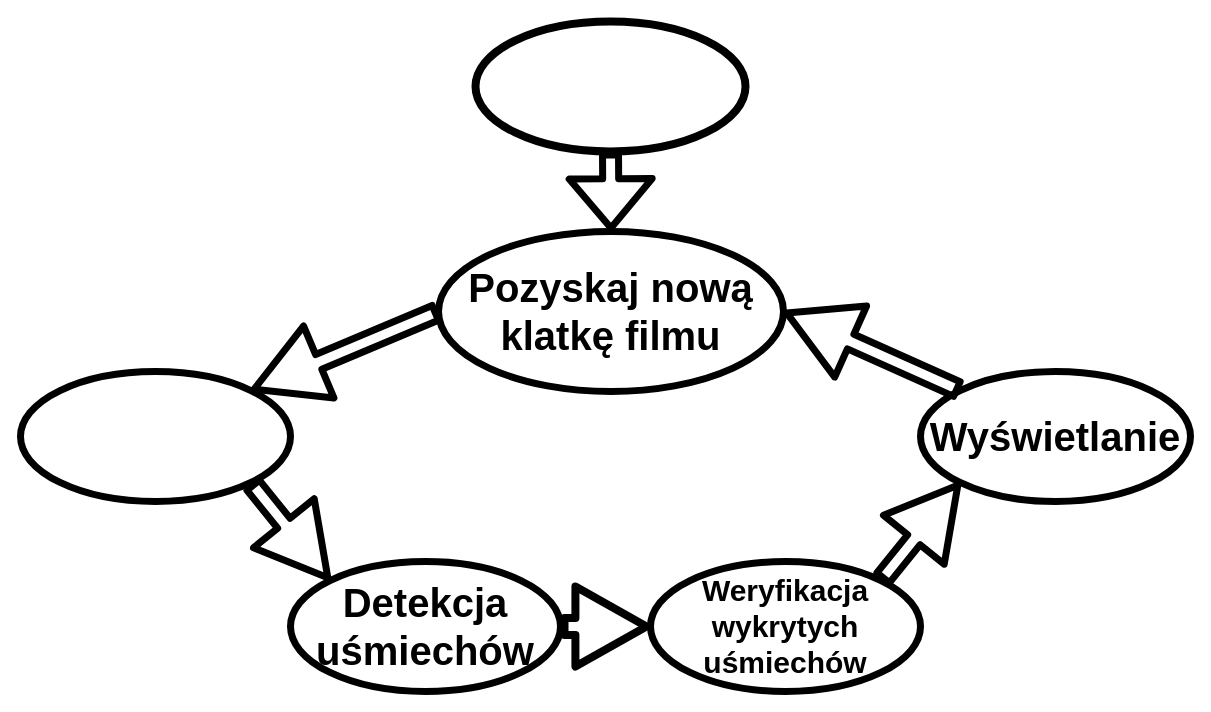
Some shapes in this 1211 by 712 pixel diagram are drawn without their labels. The shapes that lost their labels are listed below. From the top down, each one's box as (x1, y1, x2, y2) in pixels, then its label:
(471, 17, 749, 155): Start
(16, 368, 294, 504): Detekcja twarzy
